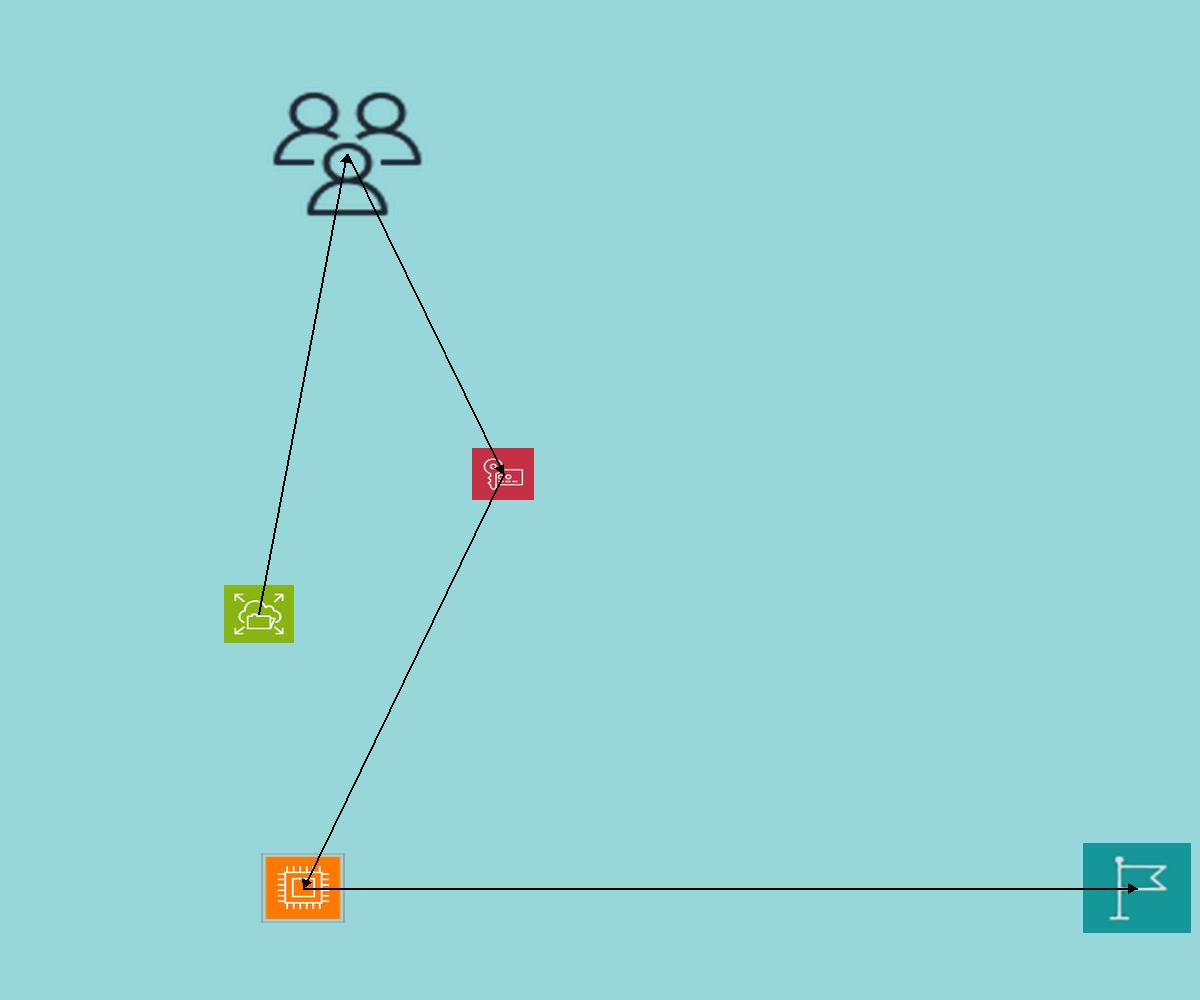AWS-Category_Compute: (261, 853, 345, 923)
AWS-EFS: (224, 585, 294, 643)
AWS-Key-Management-Service: (472, 448, 534, 500)
AWS-Region: (1083, 843, 1191, 933)
AWS-Res_Users: (267, 87, 428, 221)
